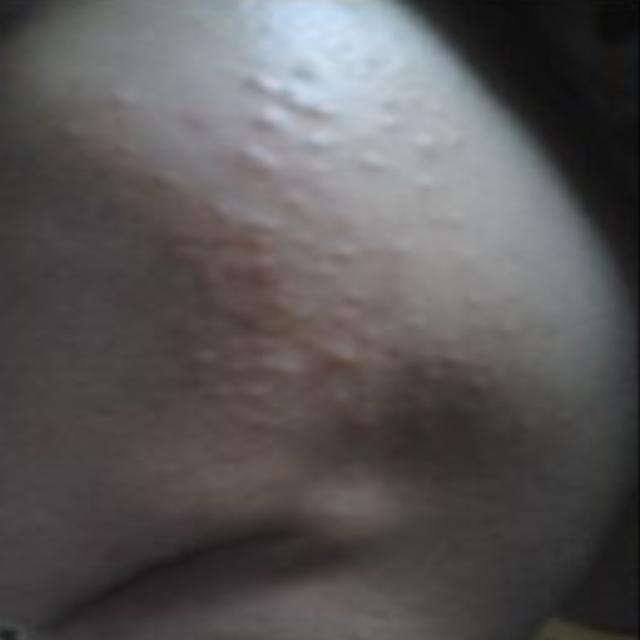fungal: (115, 56, 457, 435)
